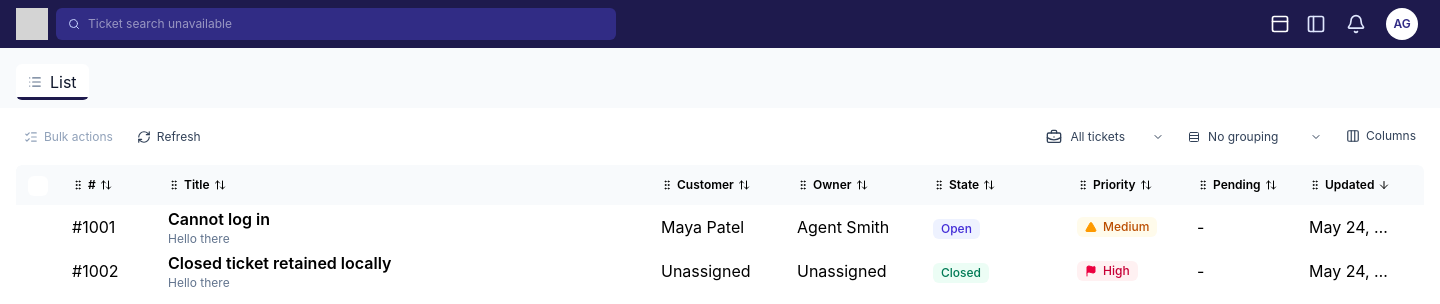
it: TicketWorkspace authoritative list refresh › removes tickets omitted by the active saved-view query
The image size is (1440, 304).
Check: the text "Closed ticket retained locally" is shown, box 168,253 -> 391,273
Click the button with aria-label "Refresh list". click: (169, 136)
box: 129,124 -> 209,148
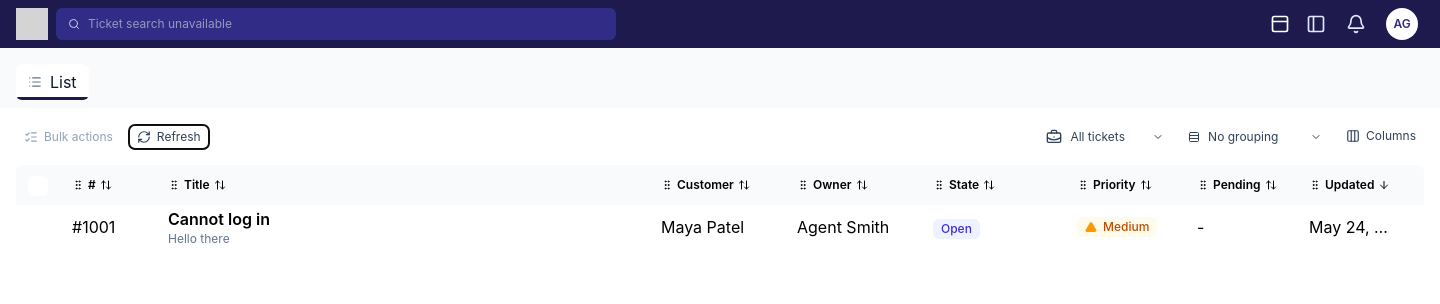
Check: the text "Cannot log in" is shown, box 168,209 -> 270,229
Check: the button "Closed ticket retained locally" is gone
